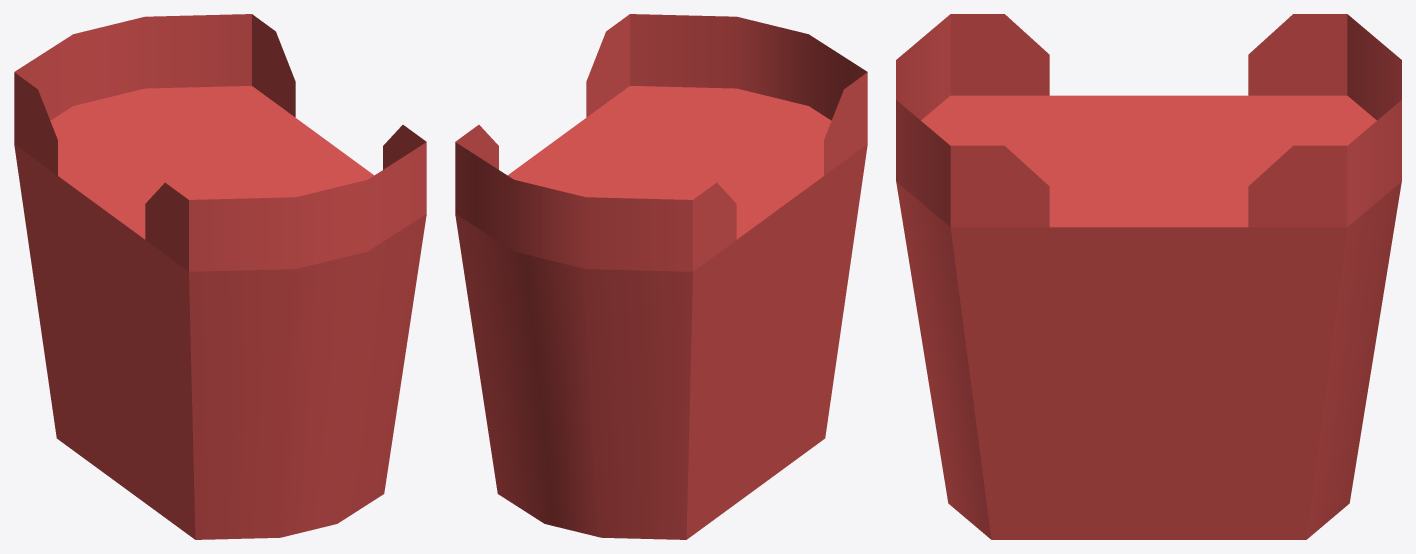
The model's file is fries.GLB.
3 renders of one model, left to right at view 1: azimuth 30°, elevation 25°; view 2: azimuth 150°, elevation 25°; view 3: azimuth 270°, elevation 25°, orthographic. The views are drawn at different scales.
Visible parts, largest first — view 1: fries; view 2: fries; view 3: fries.
Part boxes in pixels (x1,y1,x2,y2): fries: (14, 14, 426, 539); fries: (455, 14, 867, 539); fries: (896, 14, 1401, 539).
Bounding box in the file's own units: 0.1635 × 0.236 × 0.2653.
